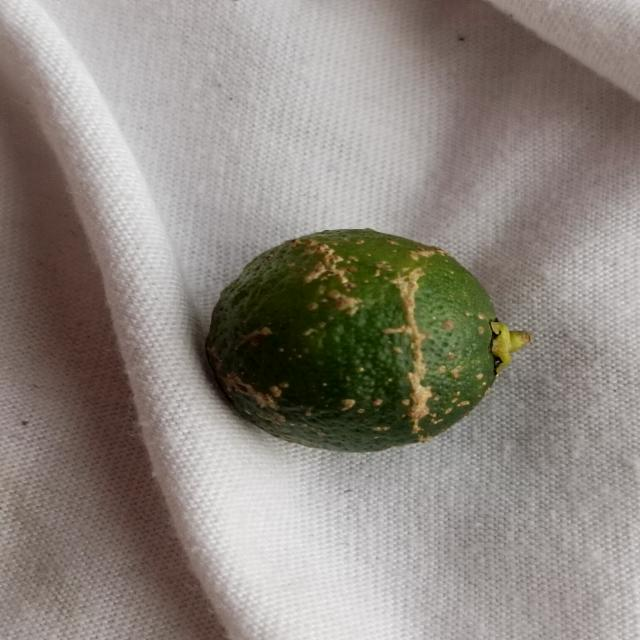scab: (216, 228, 514, 451)
